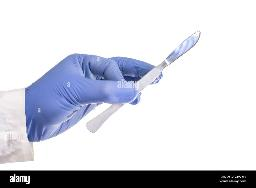scalpel: (86, 30, 200, 134)
